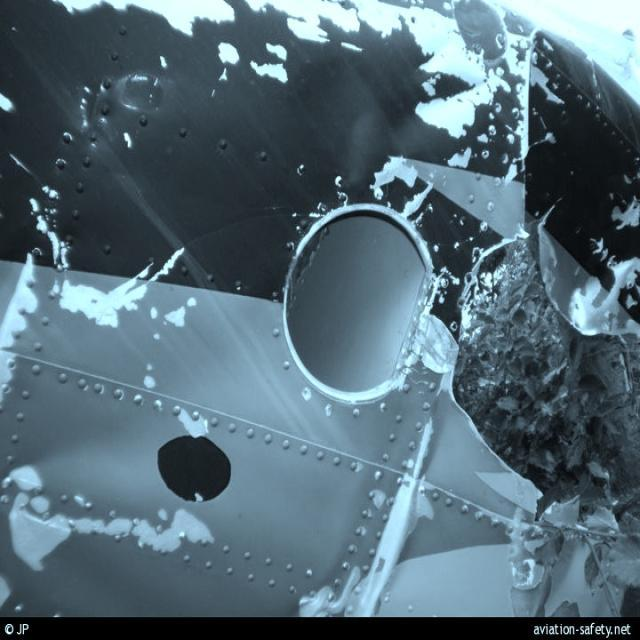dent: (327, 113, 377, 180)
